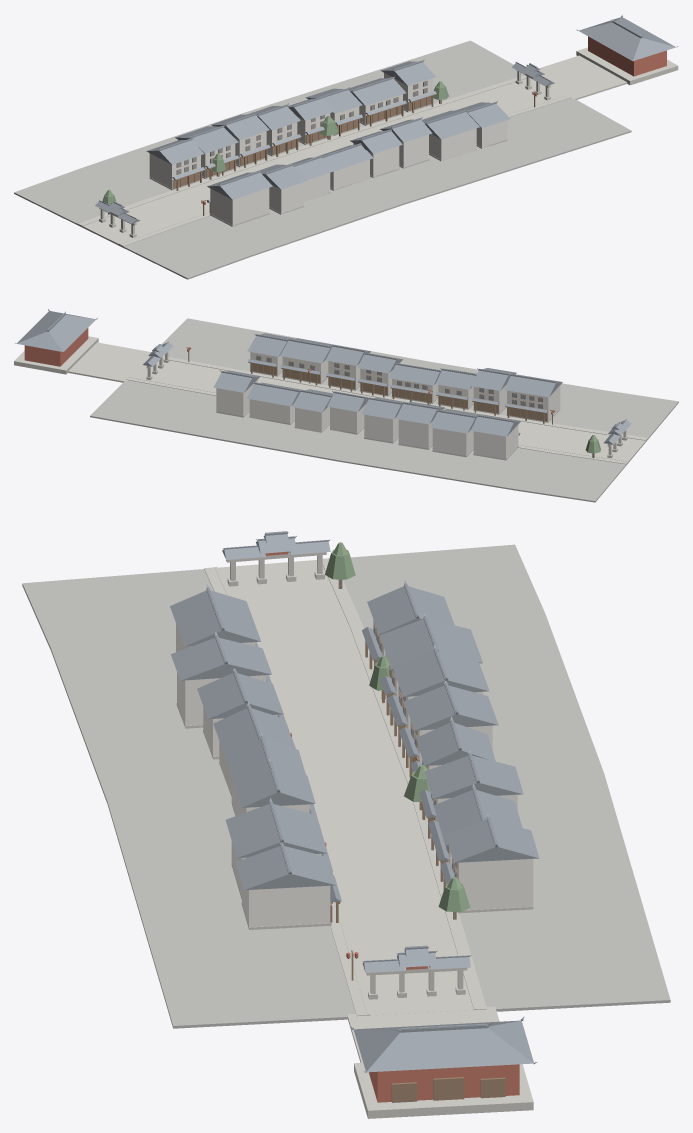
Rendered from guanqianjie.glb.
The picture shows the model from 3 angles, top to bottom: view 1: azimuth 30°, elevation 25°; view 2: azimuth 150°, elevation 25°; view 3: azimuth 270°, elevation 25°; orthographic projection. The views are drawn at different scales.
Visible parts, largest first — view 1: gqj_pave, gqj_tile, gqj_stone, gqj_wall_white, gqj_wood, gqj_red, gqj_leaf; view 2: gqj_pave, gqj_tile, gqj_stone, gqj_wall_white, gqj_wood, gqj_red; view 3: gqj_pave, gqj_tile, gqj_stone, gqj_wall_white, gqj_red, gqj_wood, gqj_leaf.
Part boxes in pixels (box(x1,y1,x2,y2)): gqj_pave: box(14, 40, 631, 279); gqj_tile: box(95, 15, 678, 223); gqj_stone: box(78, 47, 678, 246); gqj_wall_white: box(149, 73, 507, 225); gqj_wood: box(172, 80, 536, 215); gqj_red: box(201, 36, 666, 204); gqj_leaf: box(102, 81, 449, 204); gqj_pave: box(90, 318, 678, 502); gqj_tile: box(15, 309, 631, 444); gqj_stone: box(14, 336, 647, 464); gqj_wall_white: box(216, 352, 560, 459); gqj_wood: box(186, 347, 554, 435); gqj_red: box(24, 328, 554, 414); gqj_pave: box(22, 544, 670, 1028); gqj_tile: box(170, 531, 539, 1072); gqj_stone: box(176, 551, 533, 1118); gqj_wall_white: box(176, 619, 533, 927); gqj_red: box(265, 551, 519, 1102); gqj_wood: box(330, 624, 505, 1102); gqj_leaf: box(325, 542, 470, 911).
Bounding box in the file's own units: 227 × 13.79 × 109.
